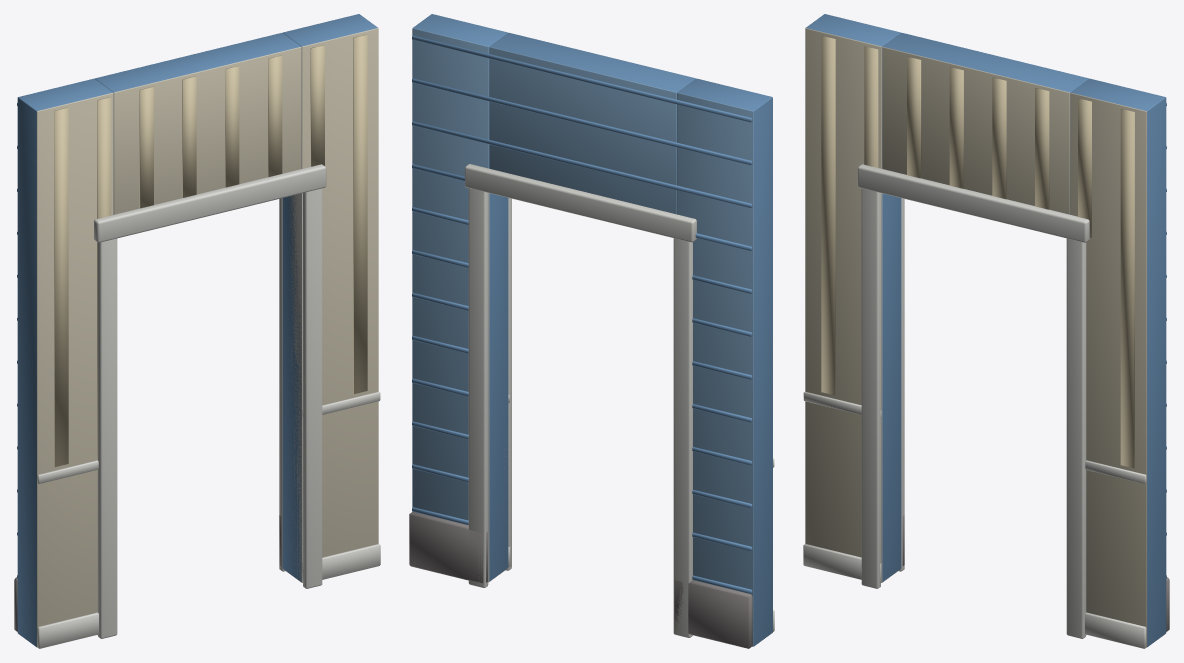
The model's file is wall_door_blue.glb.
3 renders of one model, left to right at view 1: azimuth 30°, elevation 25°; view 2: azimuth 150°, elevation 25°; view 3: azimuth 330°, elevation 25°, orthographic.
Parts seen in each view (by area): view 1: wall_door_blue; view 2: wall_door_blue; view 3: wall_door_blue.
Part boxes in pixels (x1=…): wall_door_blue: x1=14, y1=14, x2=380, y2=648; wall_door_blue: x1=409, y1=14, x2=774, y2=648; wall_door_blue: x1=803, y1=14, x2=1169, y2=648.
Size of the model in its own units: 2 by 3.02 by 0.29.
